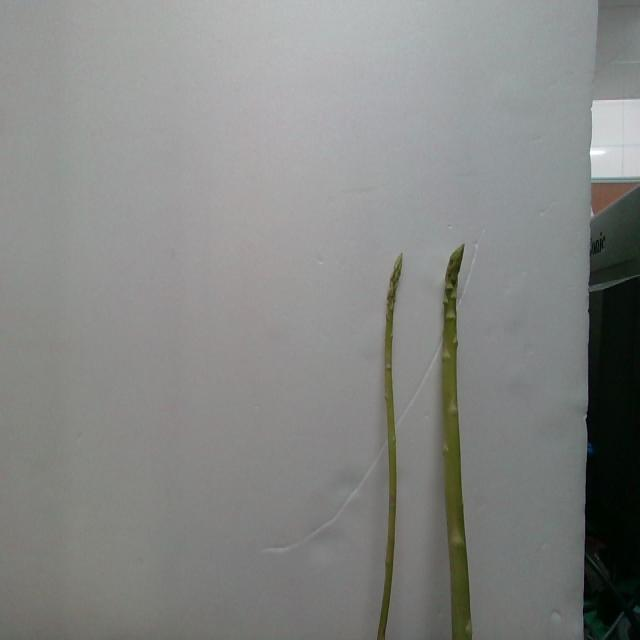aspargus: (442, 248, 475, 640), (373, 258, 404, 640)
